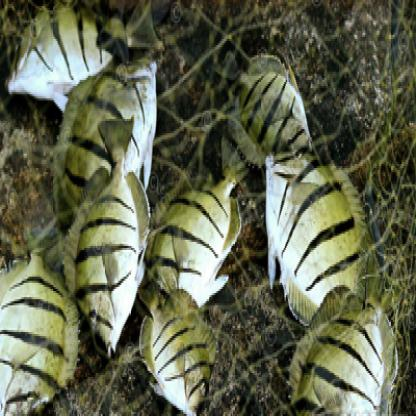surgeon: (60, 114, 152, 364), (265, 151, 378, 335), (148, 135, 249, 311), (3, 3, 165, 112), (1, 228, 79, 415), (213, 48, 314, 171), (140, 278, 219, 413)
